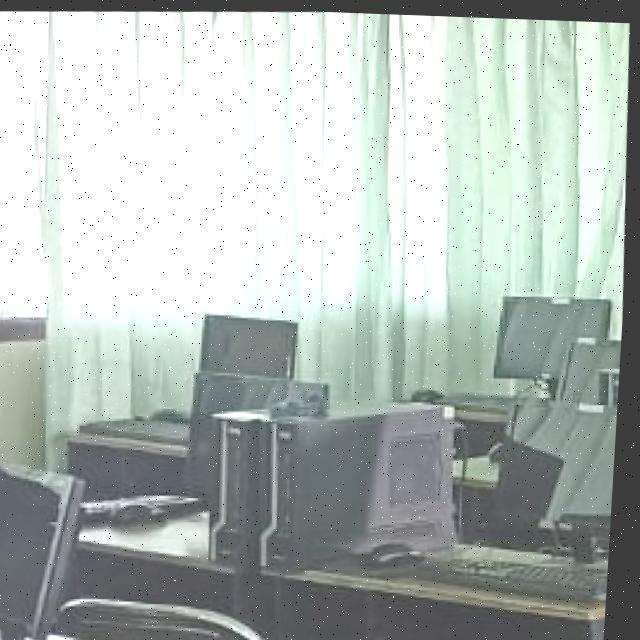offscreen: (0, 461, 88, 640), (500, 293, 613, 373), (206, 313, 300, 374)
